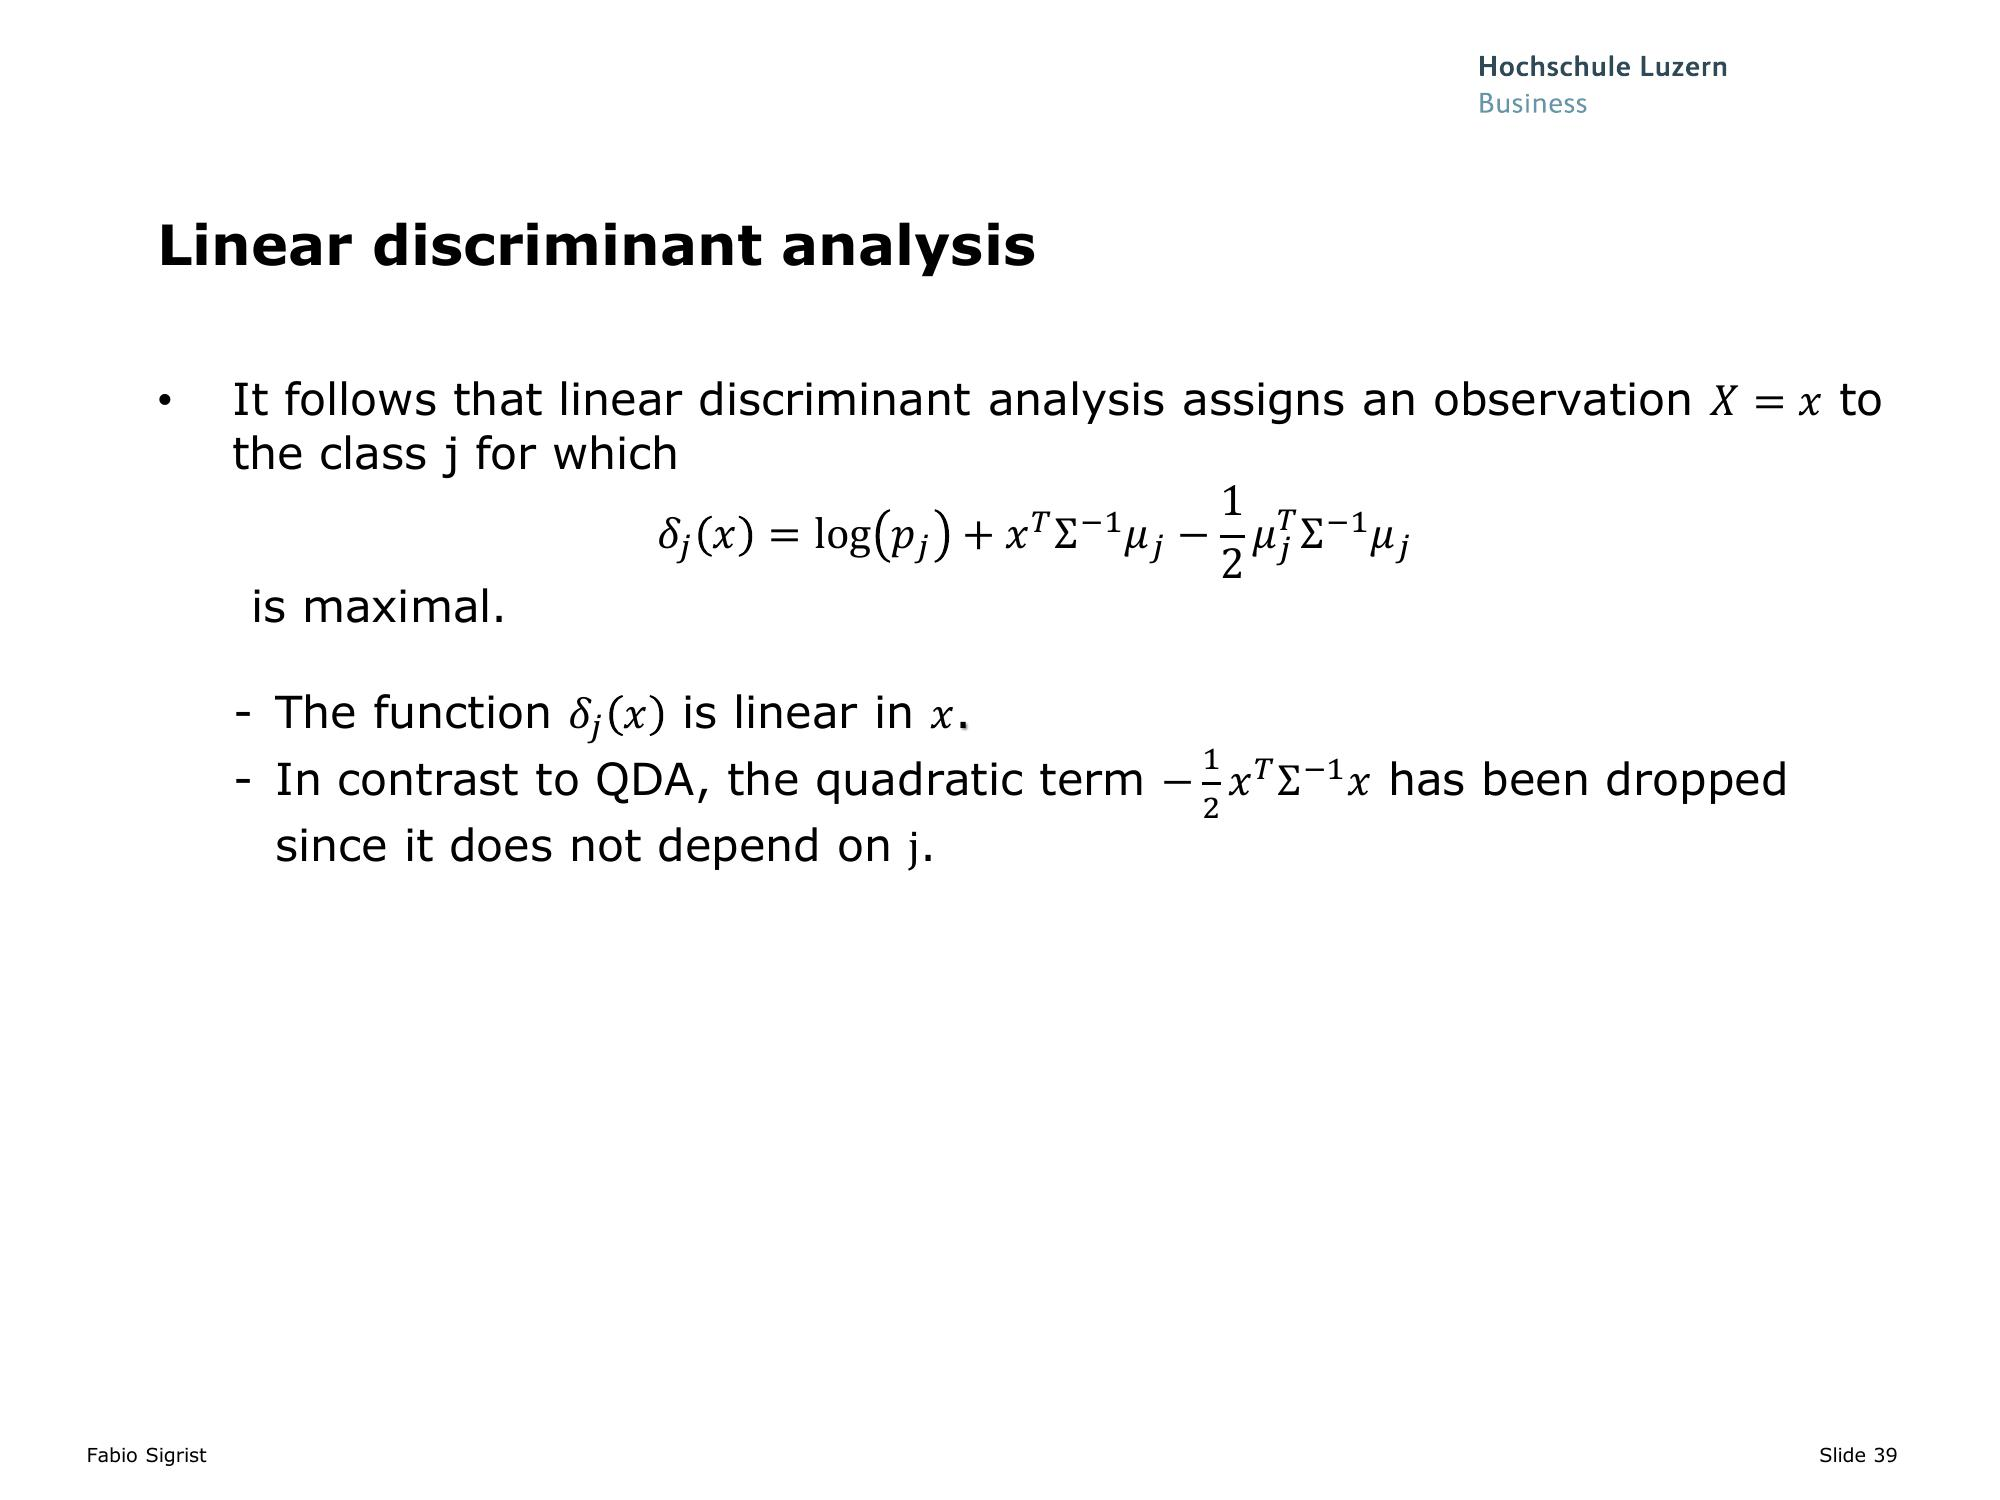Title: (142, 214, 1061, 291)
